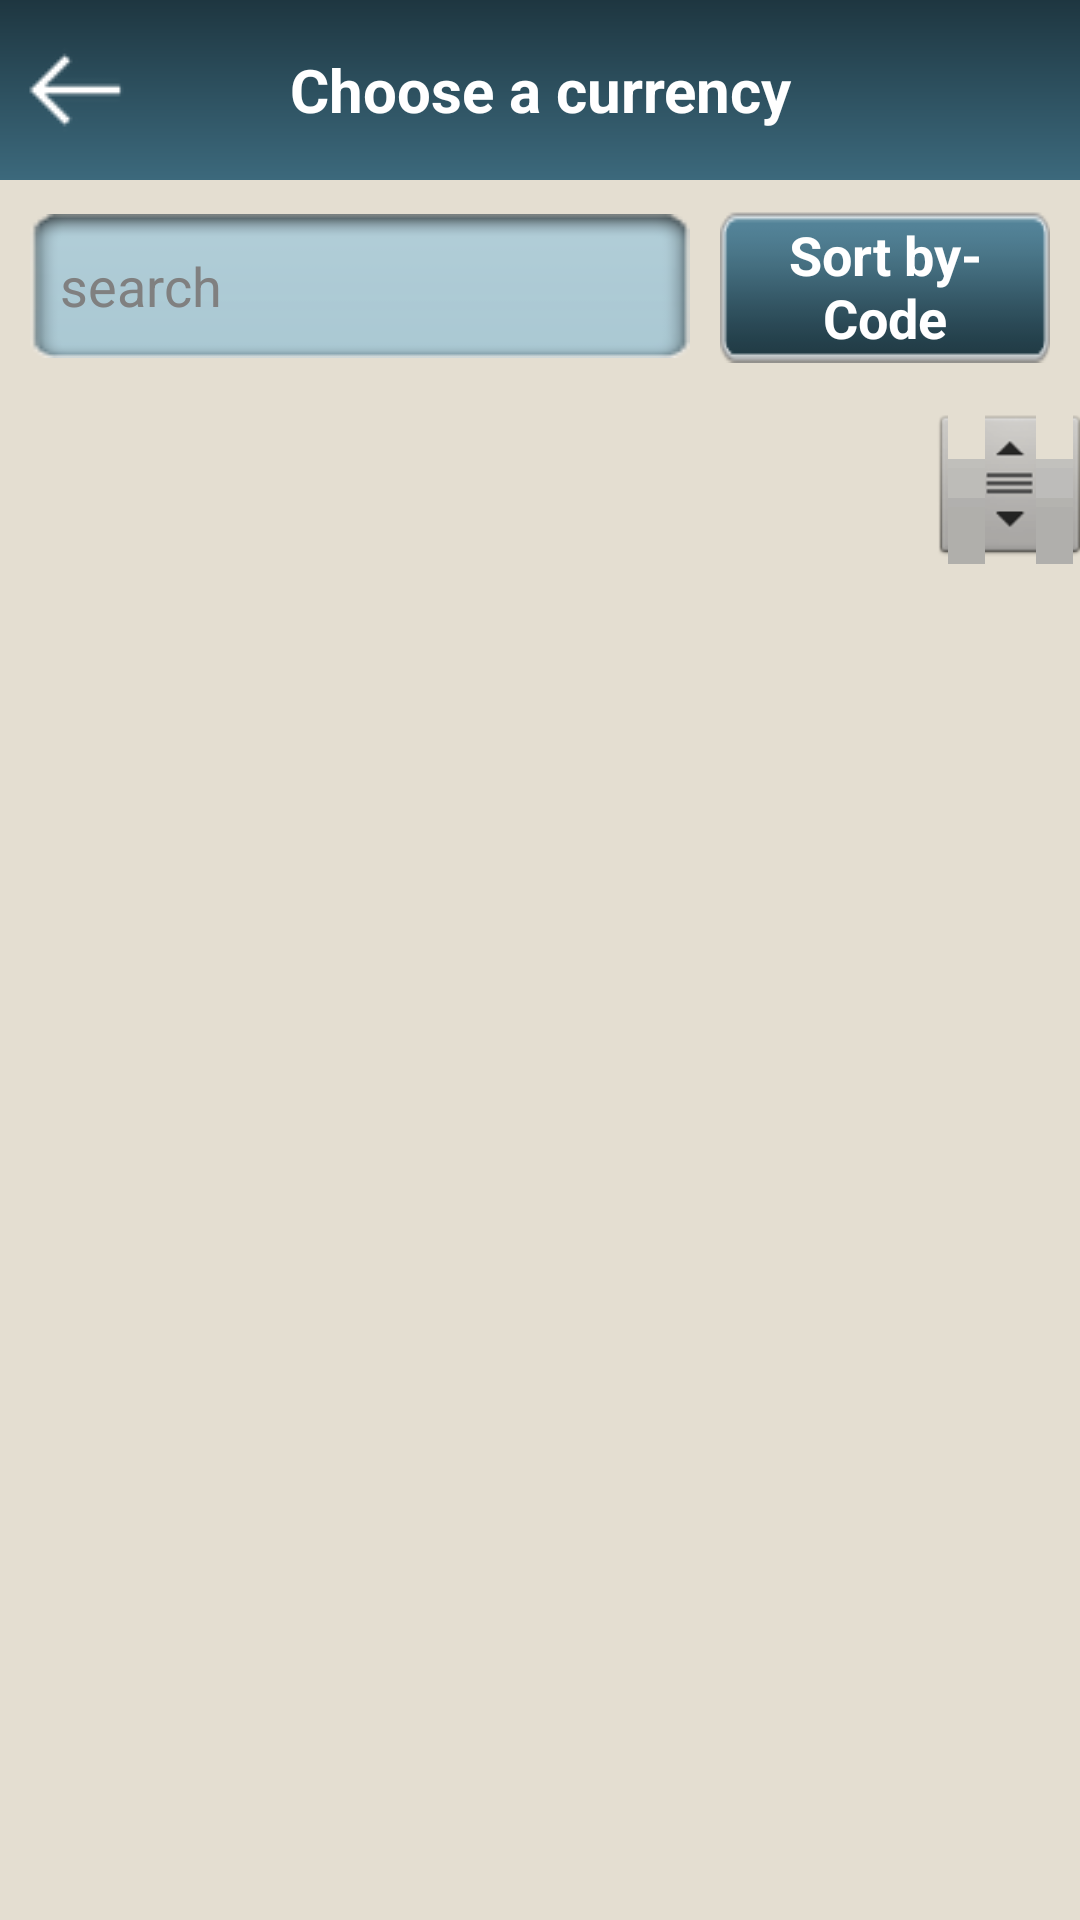

Screen size 1080w x 1920h. Icon name, then its center in pixels as point (x, y):
back: point (75, 90)
